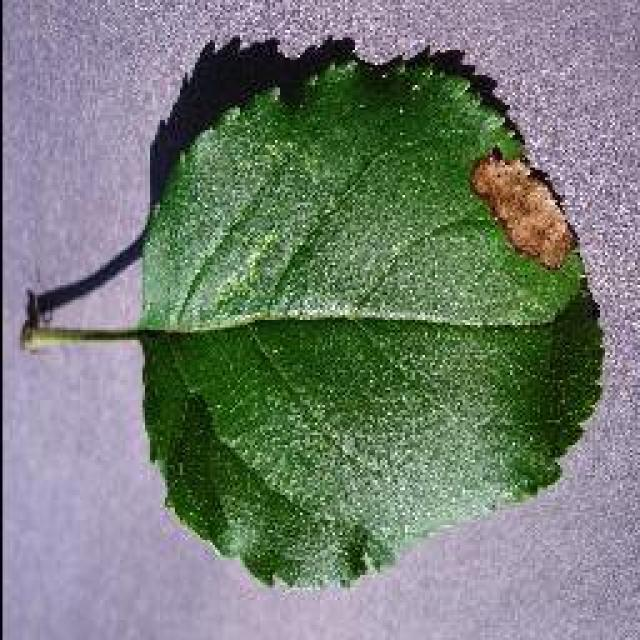Apple___Black_rot: (136, 54, 608, 594)
